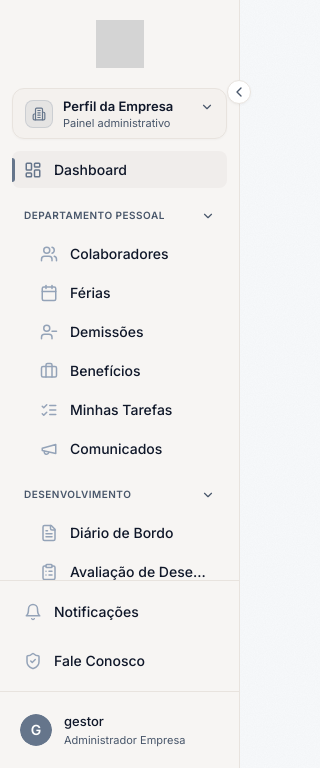
Test: Sidebar — Seletor de Perfil Ativo (Estilo Flash) › renderiza o seletor interativo para usuário com 2 papéis (admin_empresa + colaborador)
The width and height of the screenshot is (320, 768).
Later steps or results of the test are not shown.
Check: the text with test id "active-profile-title" reads "Perfil da Empresa", box [63, 98, 173, 114]
Note: Ao clicar no trigger, abre o menu dropdown com as 2 opções
Step 1. Press the mouse on the button with test id "profile-switcher-trigger" → [120, 114], box [12, 88, 227, 139]
Step 2. Click the button with test id "profile-switcher-trigger" → [120, 114], box [12, 88, 227, 139]
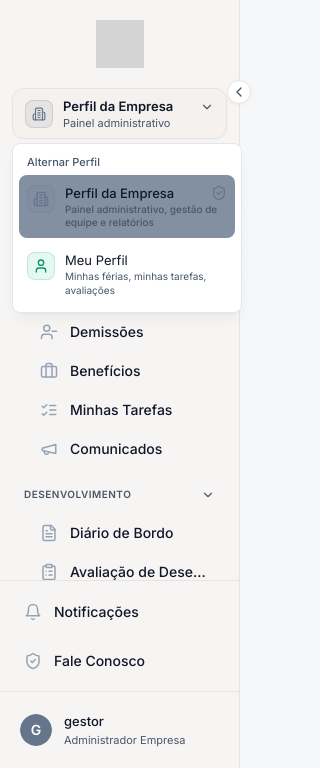
Check: the menu item with test id "profile-option-empresa" is shown, box [19, 174, 235, 238]
Check: the menu item with test id "profile-option-pessoal" is shown, box [27, 252, 206, 296]
